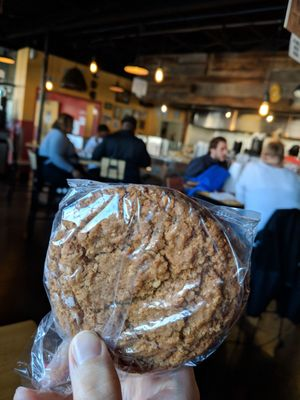pizza: (234, 137, 300, 235), (37, 113, 85, 216), (91, 115, 152, 184), (182, 136, 232, 196), (80, 124, 111, 160)
